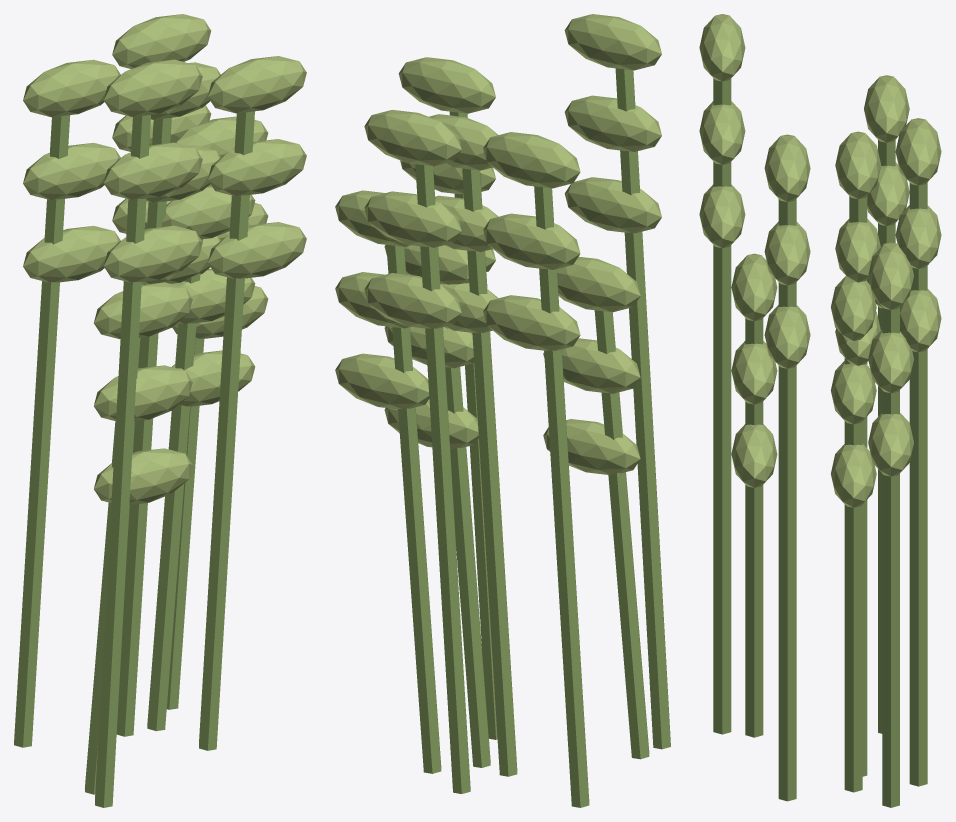
Rendered from bamboo_clump.glb.
The picture shows the model from 3 angles, left to right: view 1: azimuth 30°, elevation 25°; view 2: azimuth 150°, elevation 25°; view 3: azimuth 270°, elevation 25°; orthographic projection. The views are drawn at different scales.
Visible parts, largest first — view 1: part_0, part_8, part_12, part_24, part_20, part_9, part_1, part_10, part_2, part_11, part_3, part_13 (+17 smaller); view 2: part_0, part_4, part_12, part_24, part_28, part_16, part_20, part_5, part_1, part_9, part_13, part_2 (+19 smaller); view 3: part_0, part_8, part_4, part_28, part_20, part_16, part_1, part_5, part_9, part_25, part_13, part_29 (+19 smaller).
Part boxes in pixels (x1,y1,x2,y2): part_0: [95, 115, 150, 807]; part_8: [199, 111, 254, 750]; part_12: [14, 115, 70, 747]; part_24: [116, 117, 171, 736]; part_20: [147, 239, 202, 731]; part_9: [208, 56, 306, 113]; part_1: [103, 59, 202, 116]; part_10: [208, 139, 306, 196]; part_2: [103, 142, 202, 199]; part_11: [208, 222, 306, 278]; part_3: [103, 225, 202, 282]; part_13: [23, 59, 120, 117]; part_0: [615, 68, 670, 749]; part_4: [415, 164, 470, 793]; part_12: [534, 186, 589, 807]; part_24: [462, 168, 517, 776]; part_28: [386, 245, 441, 773]; part_16: [594, 310, 649, 759]; part_20: [445, 327, 490, 767]; part_5: [364, 110, 461, 166]; part_1: [564, 14, 661, 70]; part_9: [398, 57, 495, 113]; part_13: [483, 132, 580, 188]; part_2: [564, 95, 661, 151]; part_0: [713, 78, 731, 734]; part_8: [778, 199, 796, 801]; part_4: [909, 182, 927, 786]; part_28: [882, 307, 899, 807]; part_20: [844, 358, 862, 792]; part_16: [745, 318, 763, 737]; part_1: [699, 14, 745, 81]; part_5: [895, 118, 941, 185]; part_9: [764, 134, 810, 201]; part_25: [835, 131, 881, 199]; part_13: [864, 75, 909, 142]; part_29: [868, 242, 913, 309].
Size of the model in its own units: 1.3 by 3.51 by 1.05.
